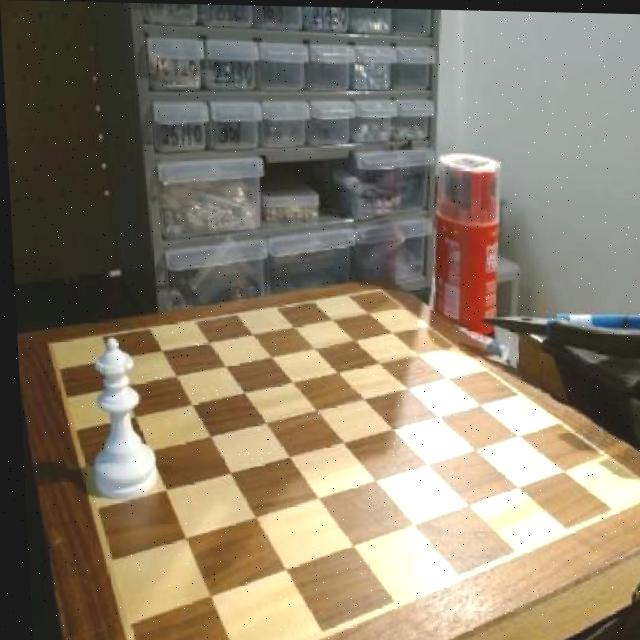white-pawn: (78, 335, 160, 503)
